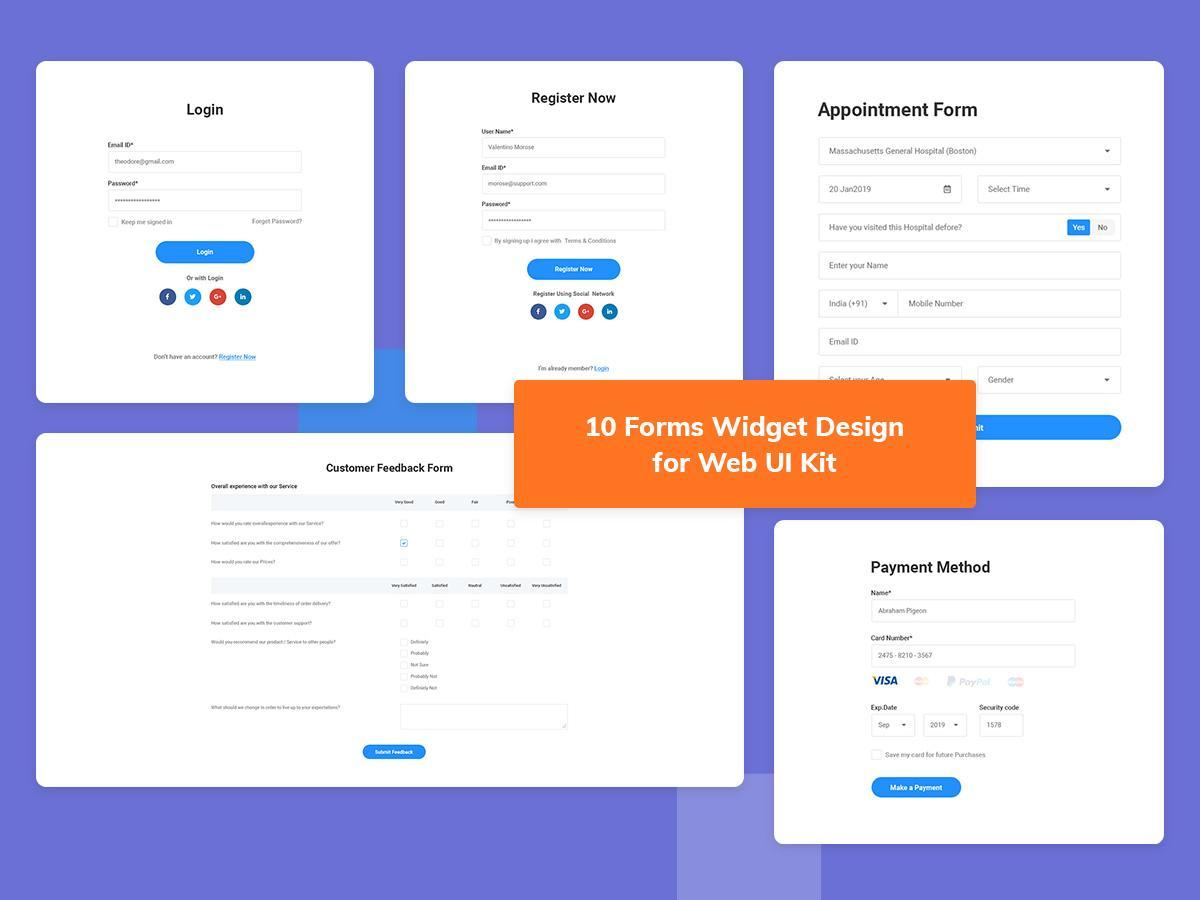button: (156, 241, 257, 265), (527, 259, 623, 283), (872, 778, 963, 800), (362, 744, 429, 762)
checkbox: (471, 557, 484, 572), (871, 750, 885, 763), (469, 517, 483, 530), (480, 235, 495, 247), (434, 537, 449, 549), (471, 539, 484, 552), (107, 217, 121, 229), (400, 535, 411, 550), (504, 558, 519, 569), (399, 517, 410, 531), (399, 558, 410, 572), (433, 520, 447, 531), (434, 555, 445, 569), (506, 598, 517, 612), (398, 618, 410, 630), (470, 598, 481, 611), (540, 599, 553, 610), (436, 619, 447, 631), (508, 618, 519, 630), (542, 619, 553, 631), (433, 600, 447, 609), (507, 539, 518, 550), (399, 638, 409, 650), (470, 619, 483, 628), (543, 519, 553, 530), (542, 538, 552, 549), (400, 660, 410, 671), (401, 684, 410, 696), (507, 519, 516, 529), (400, 601, 410, 610), (543, 559, 552, 568), (400, 673, 408, 683), (400, 651, 408, 660)
dropdown: (819, 137, 1123, 167), (978, 175, 1123, 205), (979, 367, 1124, 396), (819, 290, 898, 320), (923, 714, 968, 738), (872, 715, 917, 738)
input: (819, 214, 1123, 243), (820, 252, 1123, 281), (820, 329, 1123, 357), (899, 291, 1122, 319), (871, 645, 1078, 669), (872, 600, 1078, 624), (109, 190, 303, 213), (109, 152, 303, 173), (819, 176, 963, 204), (484, 174, 666, 196), (482, 139, 666, 159), (485, 212, 666, 231), (980, 715, 1026, 739)
label: (207, 705, 343, 715), (210, 540, 345, 550), (887, 750, 990, 762), (209, 638, 339, 647), (211, 619, 316, 630), (211, 600, 333, 609), (208, 519, 327, 528), (497, 238, 621, 245), (208, 560, 278, 569), (251, 218, 305, 227), (122, 217, 175, 226), (872, 634, 915, 643), (981, 703, 1020, 712), (481, 129, 517, 137), (106, 142, 137, 151), (106, 180, 140, 188), (479, 200, 513, 208), (411, 672, 441, 681), (871, 589, 894, 599), (869, 705, 901, 712), (481, 166, 509, 173), (410, 686, 440, 691), (410, 651, 431, 657), (411, 640, 431, 646), (411, 662, 430, 668)
